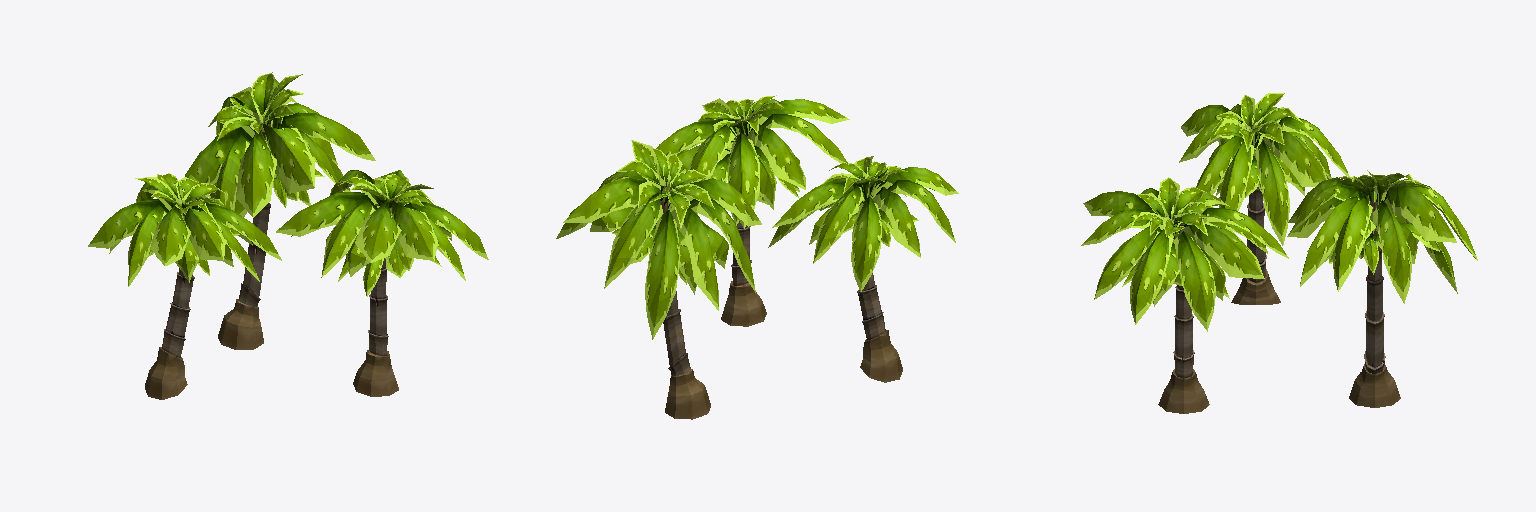
3 renders of one model, left to right at view 1: azimuth 30°, elevation 25°; view 2: azimuth 150°, elevation 25°; view 3: azimuth 270°, elevation 25°, orthographic.
Parts seen in each view (by area): view 1: palmKit; view 2: palmKit; view 3: palmKit.
Boxes of the visible parts, x1,y1,x2,y2 form: palmKit: [88, 72, 488, 399]; palmKit: [556, 95, 958, 419]; palmKit: [1081, 93, 1477, 413].
Bounding box in the file's own units: 13.87 × 10.44 × 14.89.
Materials: 2 (2 with a texture image).